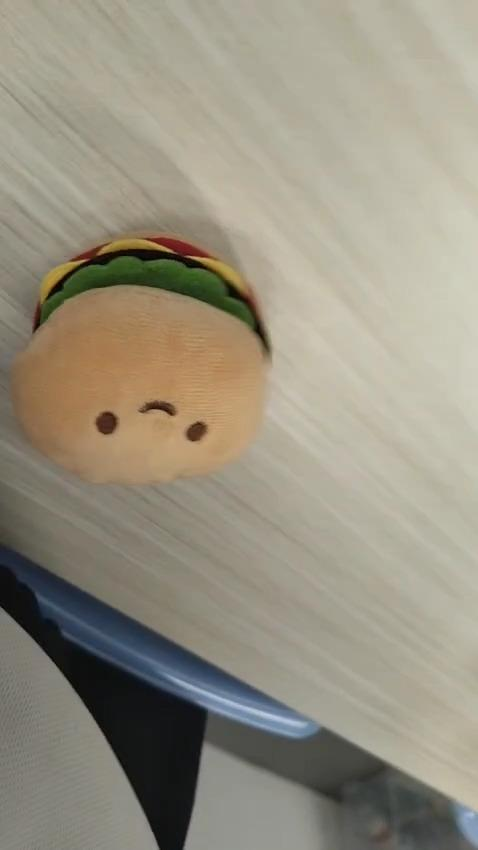hamburger: (21, 230, 272, 487)
